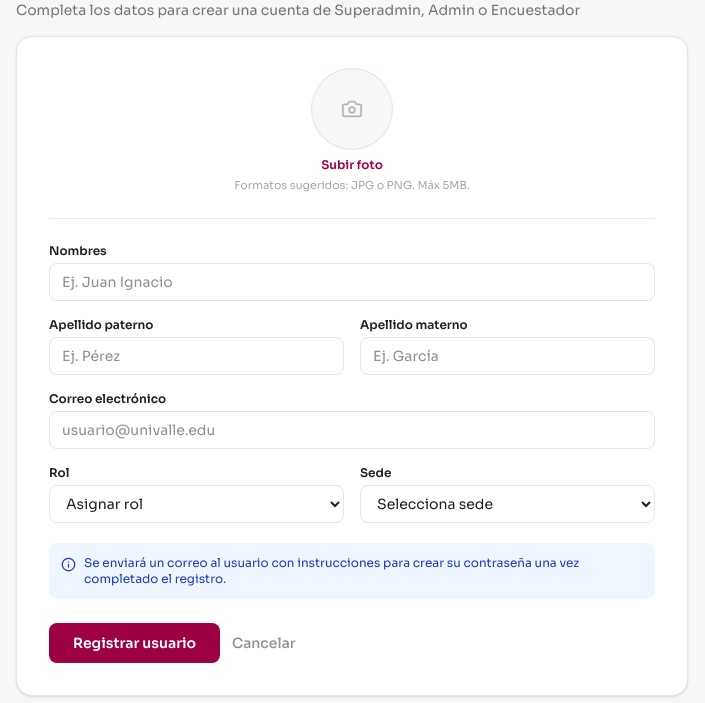
Test case: RegistrarUsuarioPage › no envía el formulario si faltan campos obligatorios
The width and height of the screenshot is (705, 703).
(page scrolled)
Click the button "Registrar usuario" at coordinates (134, 642), box [49,622,220,662]
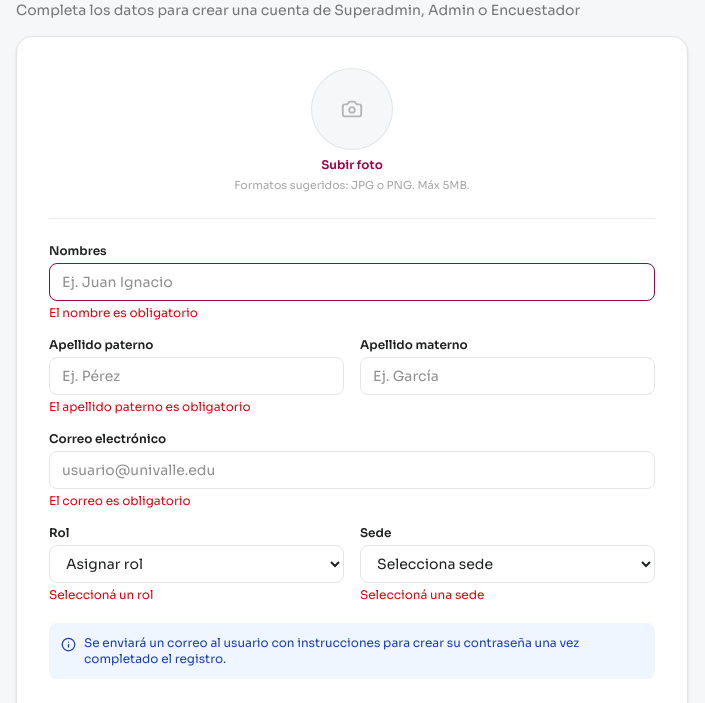
Expected: the text "El nombre es obligatorio" is shown, [49,304,198,320]
